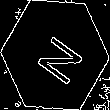N_NW: (26, 24, 84, 86)
